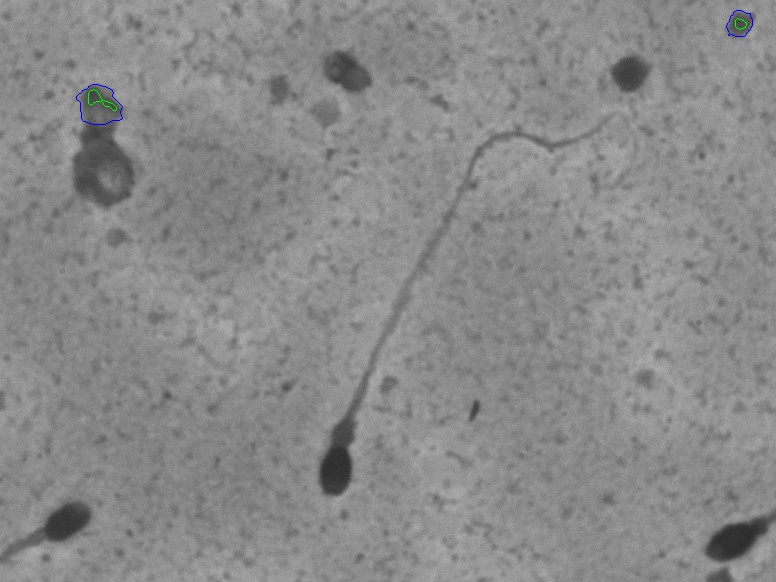Abnormal: (304, 101, 646, 516), (19, 470, 111, 571)
